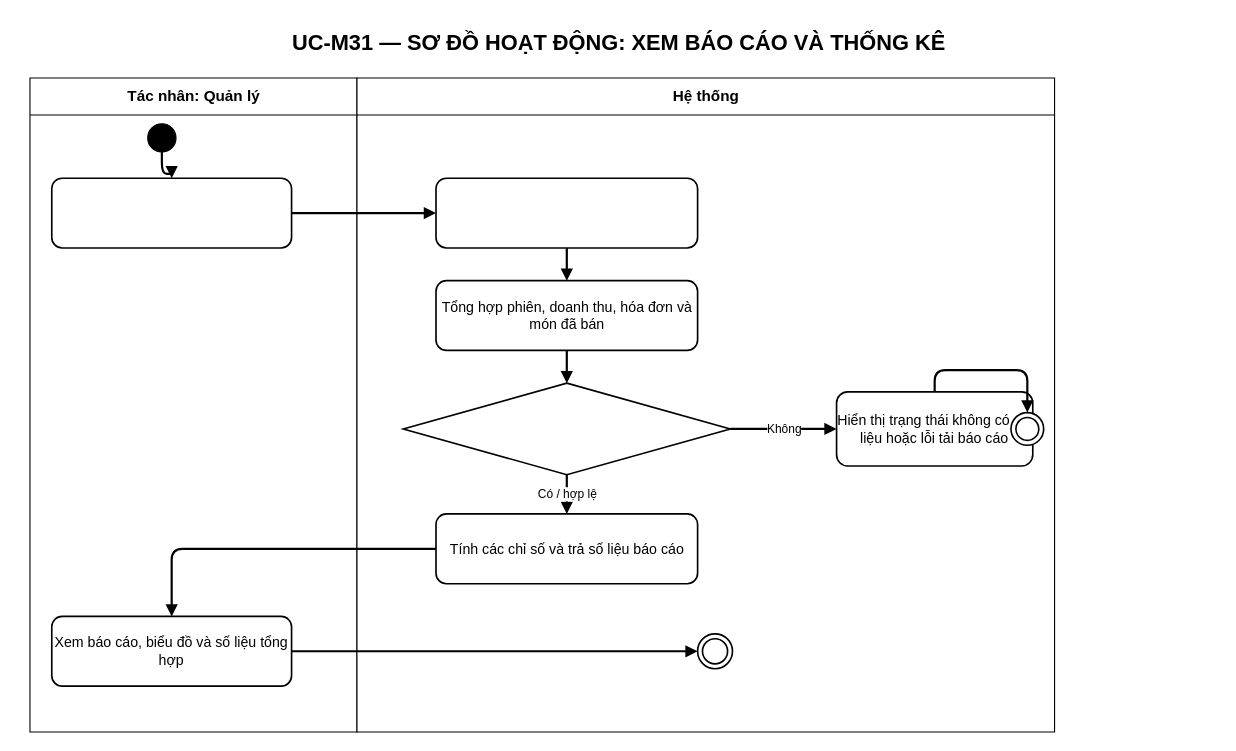
Some shapes in this 1236 by 751 pixel diagram are drawn without their labels. The shapes that lost their labels are listed below. From the top down, each one's centre as x and y in pixels, then its label:
(x=171, y=212): Mở báo cáo và chọn khoảng thời gian, bộ lọc
(x=566, y=212): Kiểm tra quyền xem báo cáo
(x=566, y=428): Dữ liệu và bộ lọc hợp lệ?
